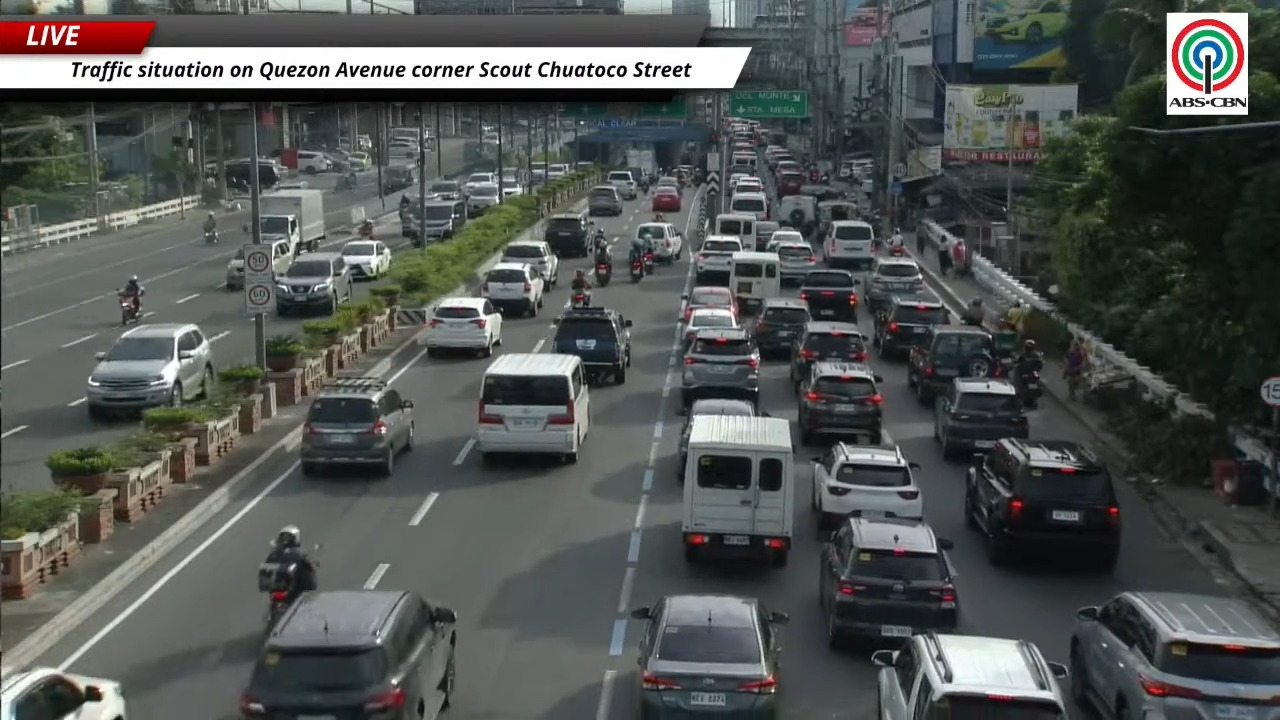car: (240, 590, 456, 719), (1069, 591, 1279, 719), (964, 438, 1120, 571), (630, 594, 788, 719), (818, 516, 958, 647), (872, 632, 1067, 719), (86, 323, 213, 418), (299, 378, 414, 475), (811, 442, 922, 538), (934, 378, 1028, 458), (797, 361, 882, 444), (907, 325, 996, 403), (676, 398, 756, 483), (0, 667, 127, 719), (681, 328, 759, 411), (551, 307, 631, 383), (789, 320, 868, 392), (418, 297, 503, 356), (276, 252, 353, 316), (873, 296, 949, 358), (983, 0, 1068, 45), (480, 262, 545, 316), (752, 297, 810, 356), (864, 257, 924, 312), (799, 268, 858, 321), (500, 240, 558, 287), (823, 220, 875, 271), (694, 235, 745, 284), (683, 308, 738, 348), (680, 285, 739, 322), (544, 212, 590, 257), (770, 240, 817, 284), (340, 240, 391, 279), (636, 222, 683, 263), (777, 193, 817, 236), (729, 190, 769, 220), (466, 183, 500, 217), (588, 185, 622, 216), (765, 228, 806, 251), (606, 171, 636, 199), (225, 246, 244, 289), (462, 172, 496, 196), (754, 220, 780, 251), (296, 151, 332, 173), (651, 186, 681, 211), (776, 171, 804, 197), (427, 180, 462, 200), (500, 170, 523, 197), (388, 139, 420, 157), (734, 177, 764, 193), (346, 151, 371, 170), (727, 172, 749, 192), (775, 158, 802, 174), (546, 164, 568, 179), (656, 176, 679, 190)
motorcycle: (1015, 369, 1042, 408), (265, 591, 289, 633), (117, 291, 139, 325), (594, 263, 610, 286), (571, 290, 590, 308), (337, 174, 357, 190), (630, 260, 644, 282), (358, 219, 374, 238), (643, 251, 655, 275), (889, 244, 905, 256), (204, 230, 217, 244), (639, 182, 649, 195), (820, 173, 829, 184)
truck: (260, 190, 325, 254), (625, 148, 656, 174)
